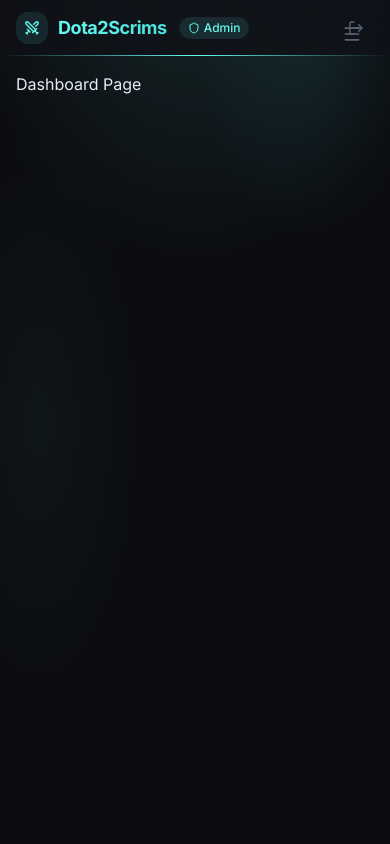
Test case: AdminLayout › mobile drawer › opens drawer when hamburger is clicked
Click the button named "menu" at (352, 34), box x1=330 y1=12 x2=374 y2=56
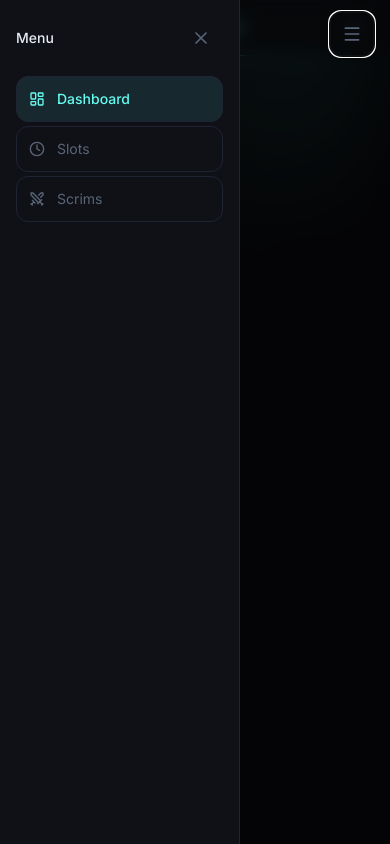
Expected: the element with test id "mobile-drawer" is shown
Expected: the link "Dashboard" is shown, x1=16 y1=76 x2=223 y2=122
Expected: the link "Slots" is shown, x1=16 y1=126 x2=223 y2=172
